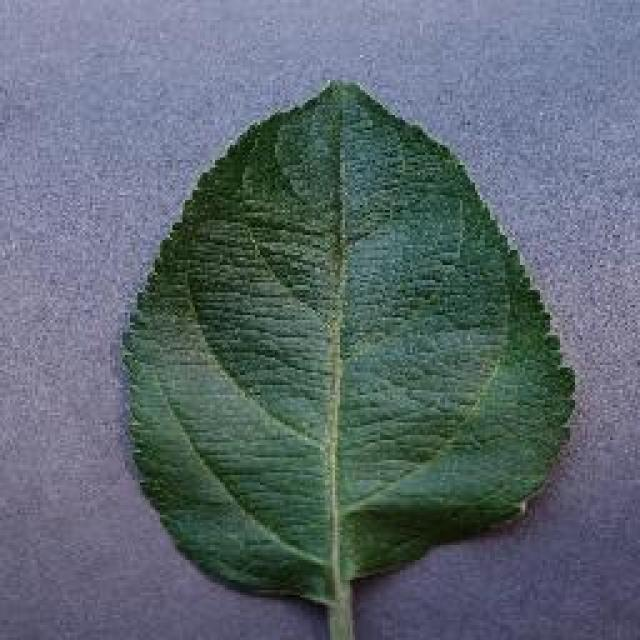apple healthy: (115, 75, 577, 637)
